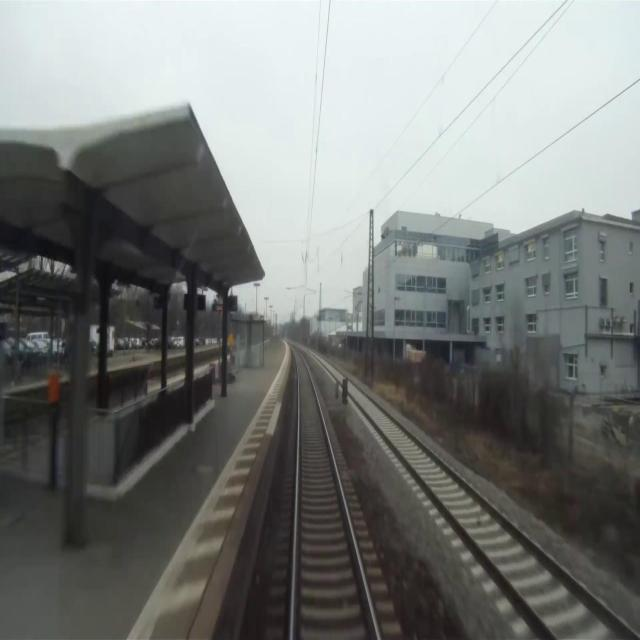rail-track: (348, 382, 639, 639), (294, 351, 376, 639)
